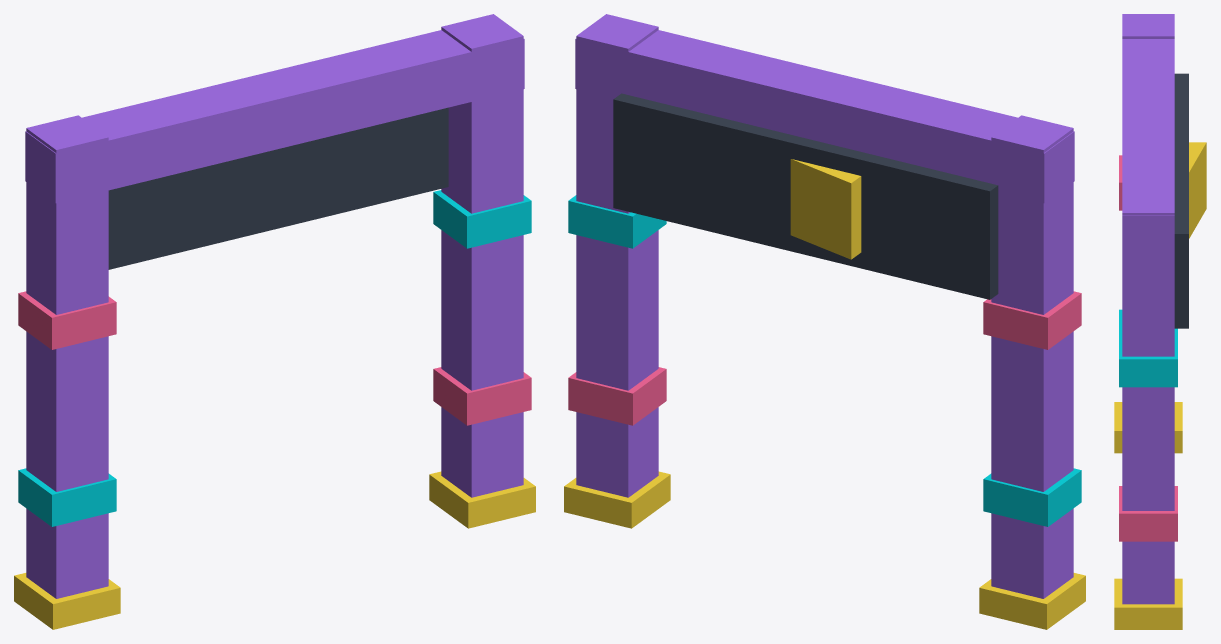
The model's file is QueueGate_Block.fbx.
3 renders of one model, left to right at view 1: azimuth 30°, elevation 25°; view 2: azimuth 150°, elevation 25°; view 3: azimuth 270°, elevation 25°, orthographic. The views are drawn at different scales.
Parts seen in each view (by area): view 1: QueueGate_Block; view 2: QueueGate_Block; view 3: QueueGate_Block.
Part boxes in pixels (x1,y1,x2,y2): QueueGate_Block: (14,14,535,629); QueueGate_Block: (564,14,1085,629); QueueGate_Block: (1114,14,1206,629).
Bounding box in the file's own units: 628 × 590 × 119.
